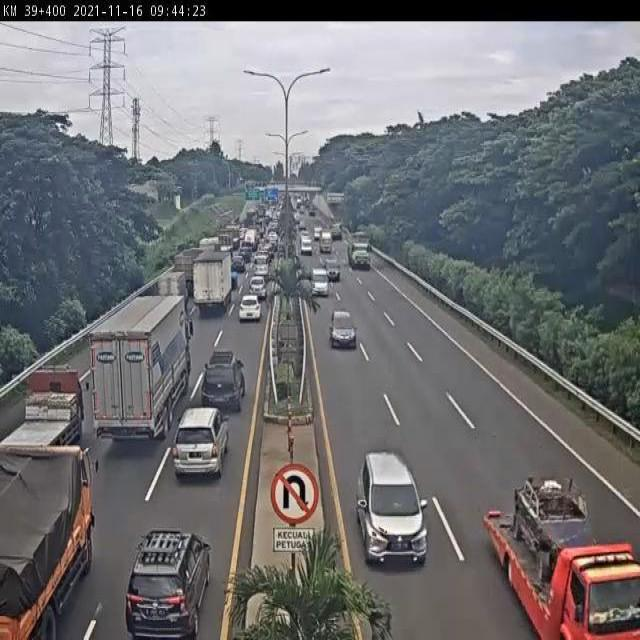car: (126, 529, 211, 640), (357, 450, 431, 570), (172, 405, 229, 479), (200, 350, 247, 414), (329, 308, 358, 351), (239, 293, 261, 323), (310, 268, 329, 301), (323, 257, 340, 284), (250, 278, 267, 302)
truck: (484, 472, 640, 640), (92, 295, 194, 444), (0, 367, 91, 479), (193, 251, 234, 319), (160, 269, 189, 316), (347, 232, 371, 271)
